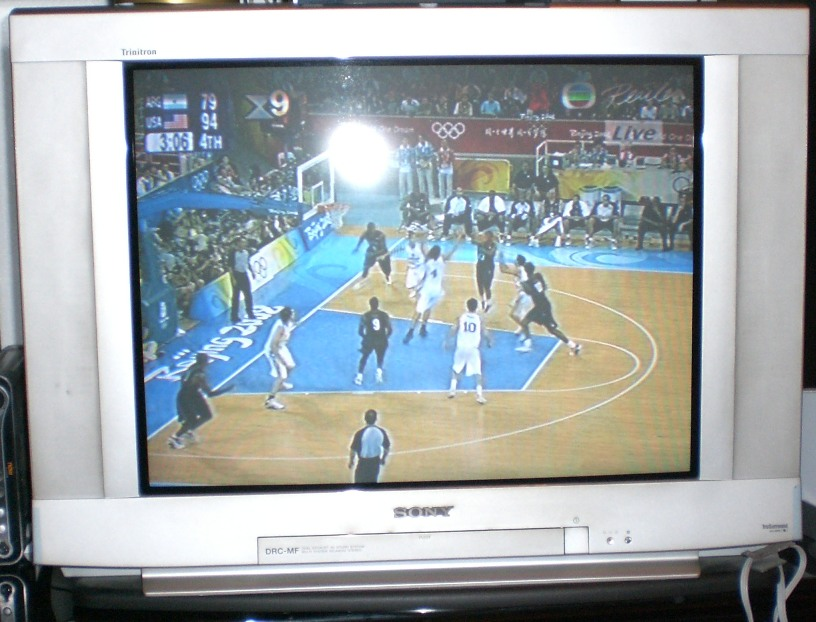tv monitor: (6, 9, 802, 585)
